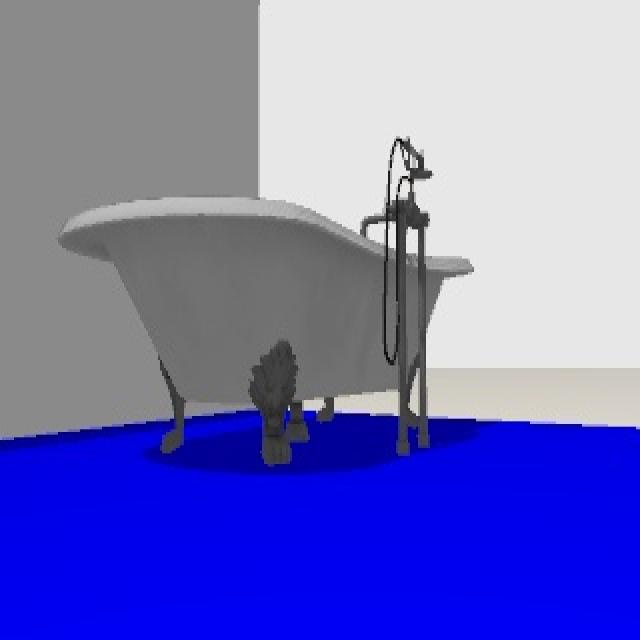bathtub: (65, 138, 474, 462)
